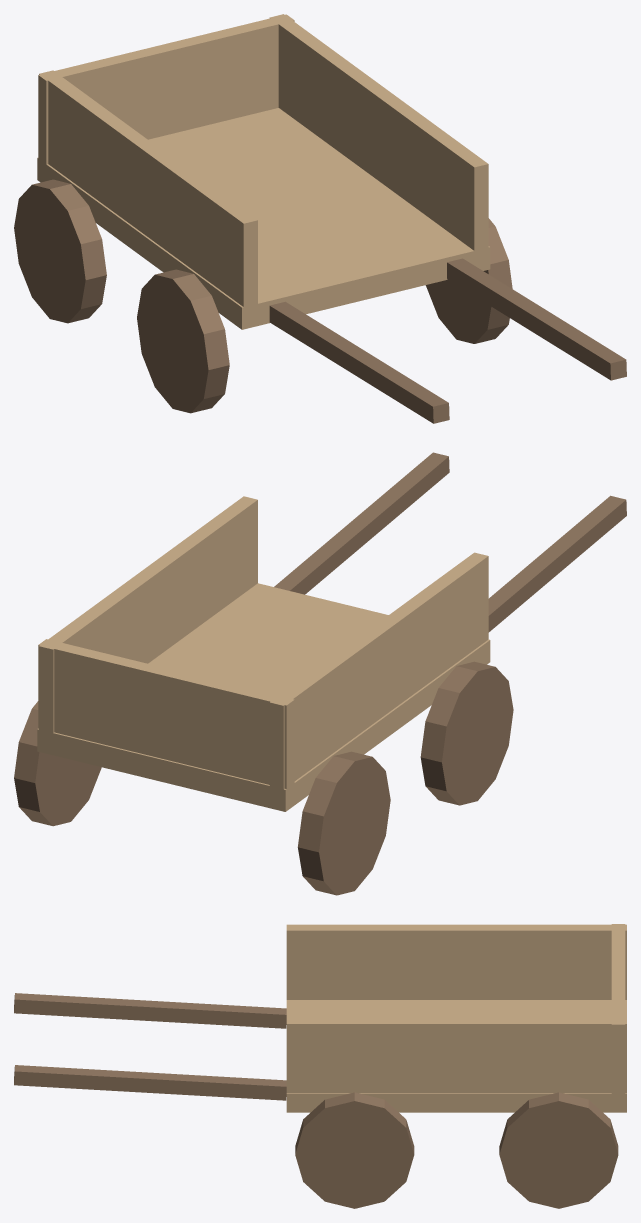
File: hand-cart.glb
3 renders of one model, top to bottom at view 1: azimuth 30°, elevation 25°; view 2: azimuth 150°, elevation 25°; view 3: azimuth 270°, elevation 25°, orthographic. The views are drawn at different scales.
Parts seen in each view (by area): view 1: hand-cart; view 2: hand-cart; view 3: hand-cart.
Part boxes in pixels (bbox=[...]): hand-cart: bbox=[14, 14, 626, 423]; hand-cart: bbox=[14, 452, 626, 895]; hand-cart: bbox=[14, 924, 626, 1208].
Bounding box in the file's own units: 1.72 × 1.12 × 3.6.
